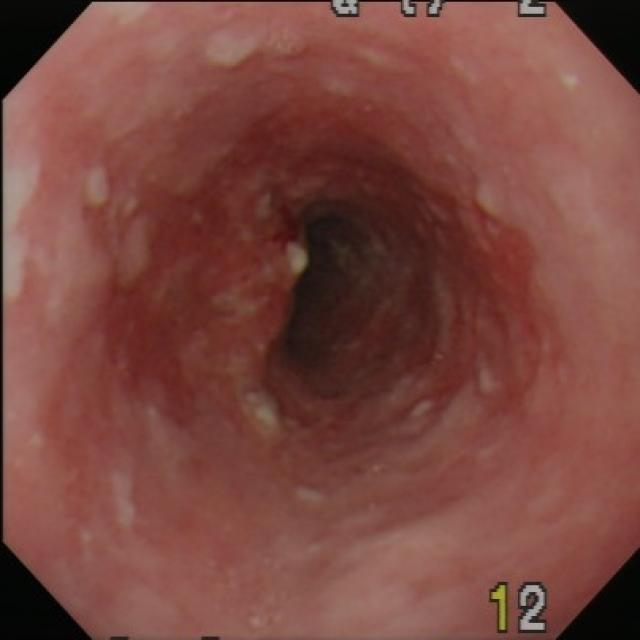A: (175, 22, 456, 195), (53, 162, 196, 434), (416, 188, 568, 427)
B: (149, 189, 317, 383)
E: (283, 201, 373, 366)
J: (3, 140, 50, 309), (236, 383, 298, 439)
S: (489, 581, 551, 636), (327, 3, 549, 18)
